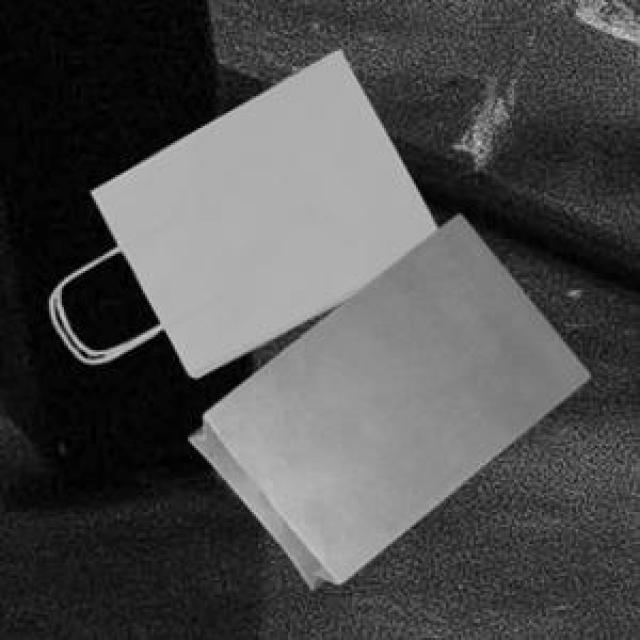paper: (186, 211, 587, 585), (45, 47, 433, 373)
